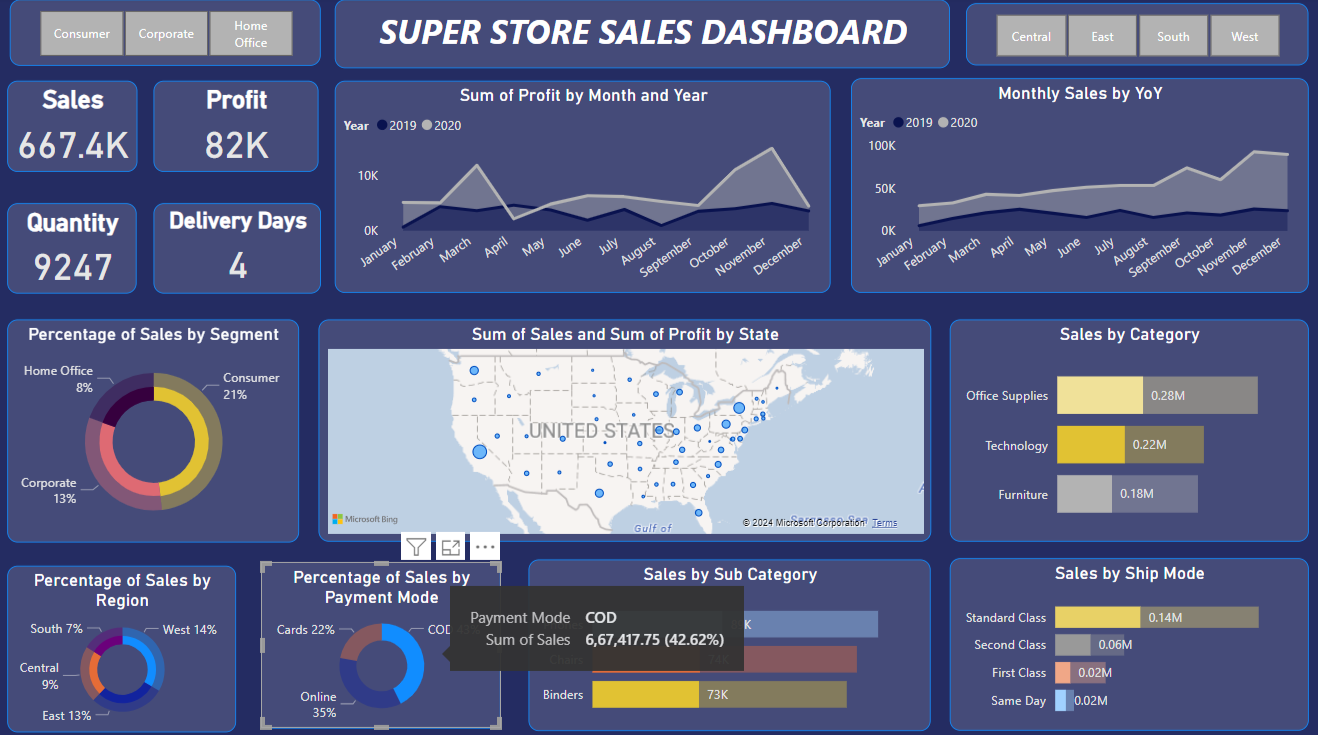

The page's visual inventory and layout, read from the dashboard file:
{"tool":"powerbi","page":{"name":"Page 1","canvas":[1280,720],"ordinal":0},"visuals":[{"type":"clusteredBarChart","title":"Sales by Category","fields":{"Category":["SuperStore_Sales_Dataset.Category"],"Y":["Sum(SuperStore_Sales_Dataset.Sales)"]},"box":[920.2,311.2,346.1,214.7],"z":0},{"type":"clusteredBarChart","title":"Sales by Sub Category","fields":{"Category":["SuperStore_Sales_Dataset.Sub-Category"],"Y":["Sum(SuperStore_Sales_Dataset.Sales)"]},"box":[513.8,542.7,388.3,165.2],"z":1000},{"type":"clusteredBarChart","title":"Sales by Ship Mode","fields":{"Category":["SuperStore_Sales_Dataset.Ship Mode"],"Y":["Sum(SuperStore_Sales_Dataset.Sales)"]},"box":[920,541.2,346.2,166.2],"z":2000},{"type":"stackedAreaChart","title":"Monthly Sales by YoY","fields":{"Y":["Sum(SuperStore_Sales_Dataset.Sales)"],"Category":["SuperStore_Sales_Dataset.Order Date.Variation.Date Hierarchy.Month","SuperStore_Sales_Dataset.Order Date.Variation.Date Hierarchy.Day"],"Series":["SuperStore_Sales_Dataset.Order Date.Variation.Date Hierarchy.Year"]},"box":[825,78.8,441.2,207.5],"z":3000},{"type":"stackedAreaChart","fields":{"Category":["SuperStore_Sales_Dataset.Order Date.Variation.Date Hierarchy.Month","SuperStore_Sales_Dataset.Order Date.Variation.Date Hierarchy.Day"],"Series":["SuperStore_Sales_Dataset.Order Date.Variation.Date Hierarchy.Year"],"Y":["Sum(SuperStore_Sales_Dataset.Profit)"]},"box":[326.2,81.2,478.8,205],"z":4000},{"type":"map","fields":{"Category":["SuperStore_Sales_Dataset.State"],"Size":["Sum(SuperStore_Sales_Dataset.Sales)"]},"box":[311.2,311.2,591,214.7],"z":5000},{"type":"donutChart","title":"Percentage of Sales by Segment","fields":{"Category":["SuperStore_Sales_Dataset.Segment"],"Y":["Sum(SuperStore_Sales_Dataset.Sales)"]},"box":[11.2,311.2,281.2,215],"z":6000},{"type":"donutChart","title":"Percentage of Sales by Payment Mode","fields":{"Category":["SuperStore_Sales_Dataset.Payment Mode"],"Y":["Sum(SuperStore_Sales_Dataset.Sales)"]},"box":[255.7,545.1,231.6,160.4],"z":7000},{"type":"slicer","fields":{"Values":["SuperStore_Sales_Dataset.Region"]},"box":[936.2,6.2,330,60],"z":8000},{"type":"textbox","box":[326.2,2.5,593.8,66.2],"z":9000},{"type":"card","title":"Sales","fields":{"Values":["Sum(SuperStore_Sales_Dataset.Sales)"]},"box":[11.2,81.2,125,87.5],"z":10000},{"type":"card","title":"Quantity","fields":{"Values":["Sum(SuperStore_Sales_Dataset.Quantity)"]},"box":[11.2,198.8,125,87.5],"z":11000},{"type":"card","title":"Profit","fields":{"Values":["Sum(SuperStore_Sales_Dataset.Profit)"]},"box":[161.2,81.2,152.5,87.5],"z":12000},{"type":"card","title":"Delivery Days","fields":{"Values":["Avg(SuperStore_Sales_Dataset.AvgDelievery)"]},"box":[162.5,198.8,151.2,87.5],"z":13000},{"type":"donutChart","title":"Percentage of Sales by Region","fields":{"Category":["SuperStore_Sales_Dataset.Region"],"Y":["Sum(SuperStore_Sales_Dataset.Sales)"]},"box":[10.9,548.7,220.7,160.4],"z":14000},{"type":"slicer","fields":{"Values":["SuperStore_Sales_Dataset.Segment"]},"box":[11.2,2.5,300,63.8],"z":15000}]}

Visuals, with their boxes in screenshot pixels (x1, y1, x2, y2), scaled from the page's 1280x720 canvas onto the 1318x735 screenshot:
"Sales by Category" clusteredBarChart: left=948, top=318, right=1304, bottom=537
"Sales by Sub Category" clusteredBarChart: left=529, top=554, right=929, bottom=723
"Sales by Ship Mode" clusteredBarChart: left=947, top=552, right=1304, bottom=722
"Monthly Sales by YoY" stackedAreaChart: left=849, top=80, right=1304, bottom=292
stackedAreaChart - SuperStore_Sales_Dataset.Order Date.Variation.Date Hierarchy.Month x SuperStore_Sales_Dataset.Order Date.Variation.Date Hierarchy.Day: left=336, top=83, right=829, bottom=292
map - SuperStore_Sales_Dataset.State x Sum(SuperStore_Sales_Dataset.Sales): left=320, top=318, right=929, bottom=537
"Percentage of Sales by Segment" donutChart: left=12, top=318, right=301, bottom=537
"Percentage of Sales by Payment Mode" donutChart: left=263, top=556, right=502, bottom=720
slicer - SuperStore_Sales_Dataset.Region: left=964, top=6, right=1304, bottom=68
textbox: left=336, top=3, right=947, bottom=70
"Sales" card: left=12, top=83, right=140, bottom=172
"Quantity" card: left=12, top=203, right=140, bottom=292
"Profit" card: left=166, top=83, right=323, bottom=172
"Delivery Days" card: left=167, top=203, right=323, bottom=292
"Percentage of Sales by Region" donutChart: left=11, top=560, right=238, bottom=724
slicer - SuperStore_Sales_Dataset.Segment: left=12, top=3, right=320, bottom=68
